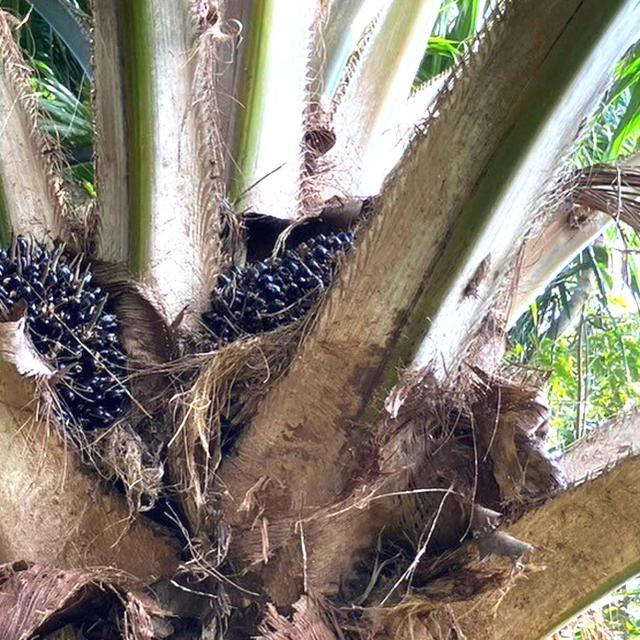unripe: (185, 218, 372, 359)
